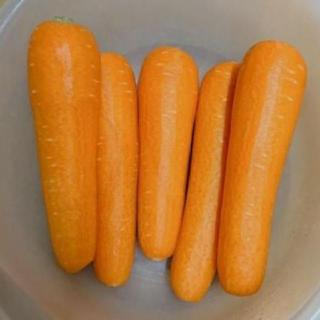carrot: (218, 37, 308, 297), (26, 13, 102, 286), (169, 60, 235, 304), (136, 44, 200, 264), (92, 51, 136, 298)
